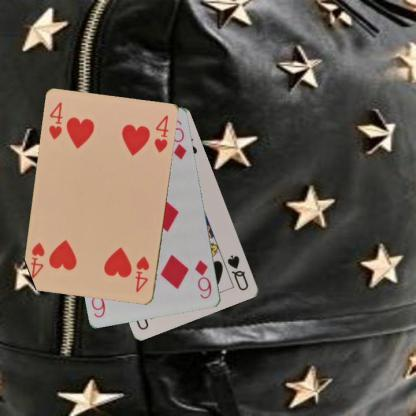4h: (46, 100, 64, 141), (133, 254, 151, 294)
6d: (192, 258, 214, 300)
Qs: (225, 252, 250, 292)
